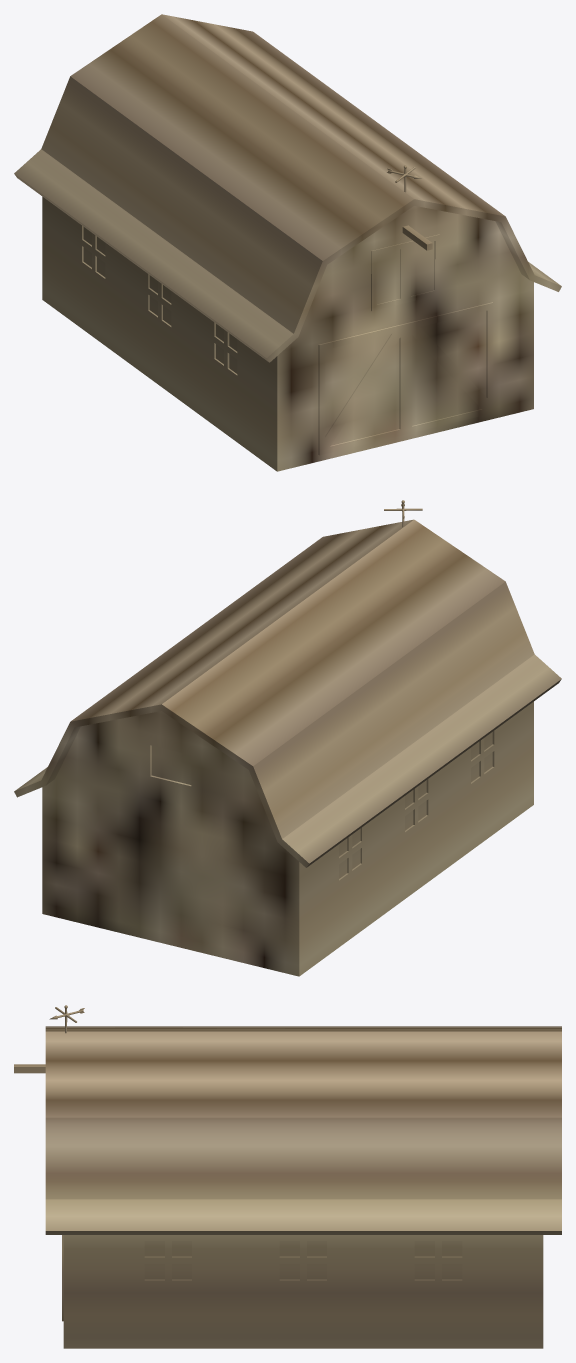
Rendered from Barn.fbx.
3 views of the same model, one above another, from view 1: azimuth 30°, elevation 25°; view 2: azimuth 150°, elevation 25°; view 3: azimuth 270°, elevation 25° (orthographic). The views are drawn at different scales.
Visible parts, largest first — view 1: Roof_default, Barn_default; view 2: Roof_default, Barn_default; view 3: Roof_default, Barn_default.
Part boxes in pixels (x1=…): Roof_default: x1=14, y1=14, x2=561, y2=362; Barn_default: x1=42, y1=196, x2=533, y2=471; Roof_default: x1=14, y1=519, x2=561, y2=867; Barn_default: x1=42, y1=701, x2=533, y2=976; Roof_default: x1=45, y1=1026, x2=561, y2=1234; Barn_default: x1=14, y1=1064, x2=543, y2=1348.
Bounding box in the file's own units: 2.78 × 2.46 × 4.37.
1 material, 1 textured.
